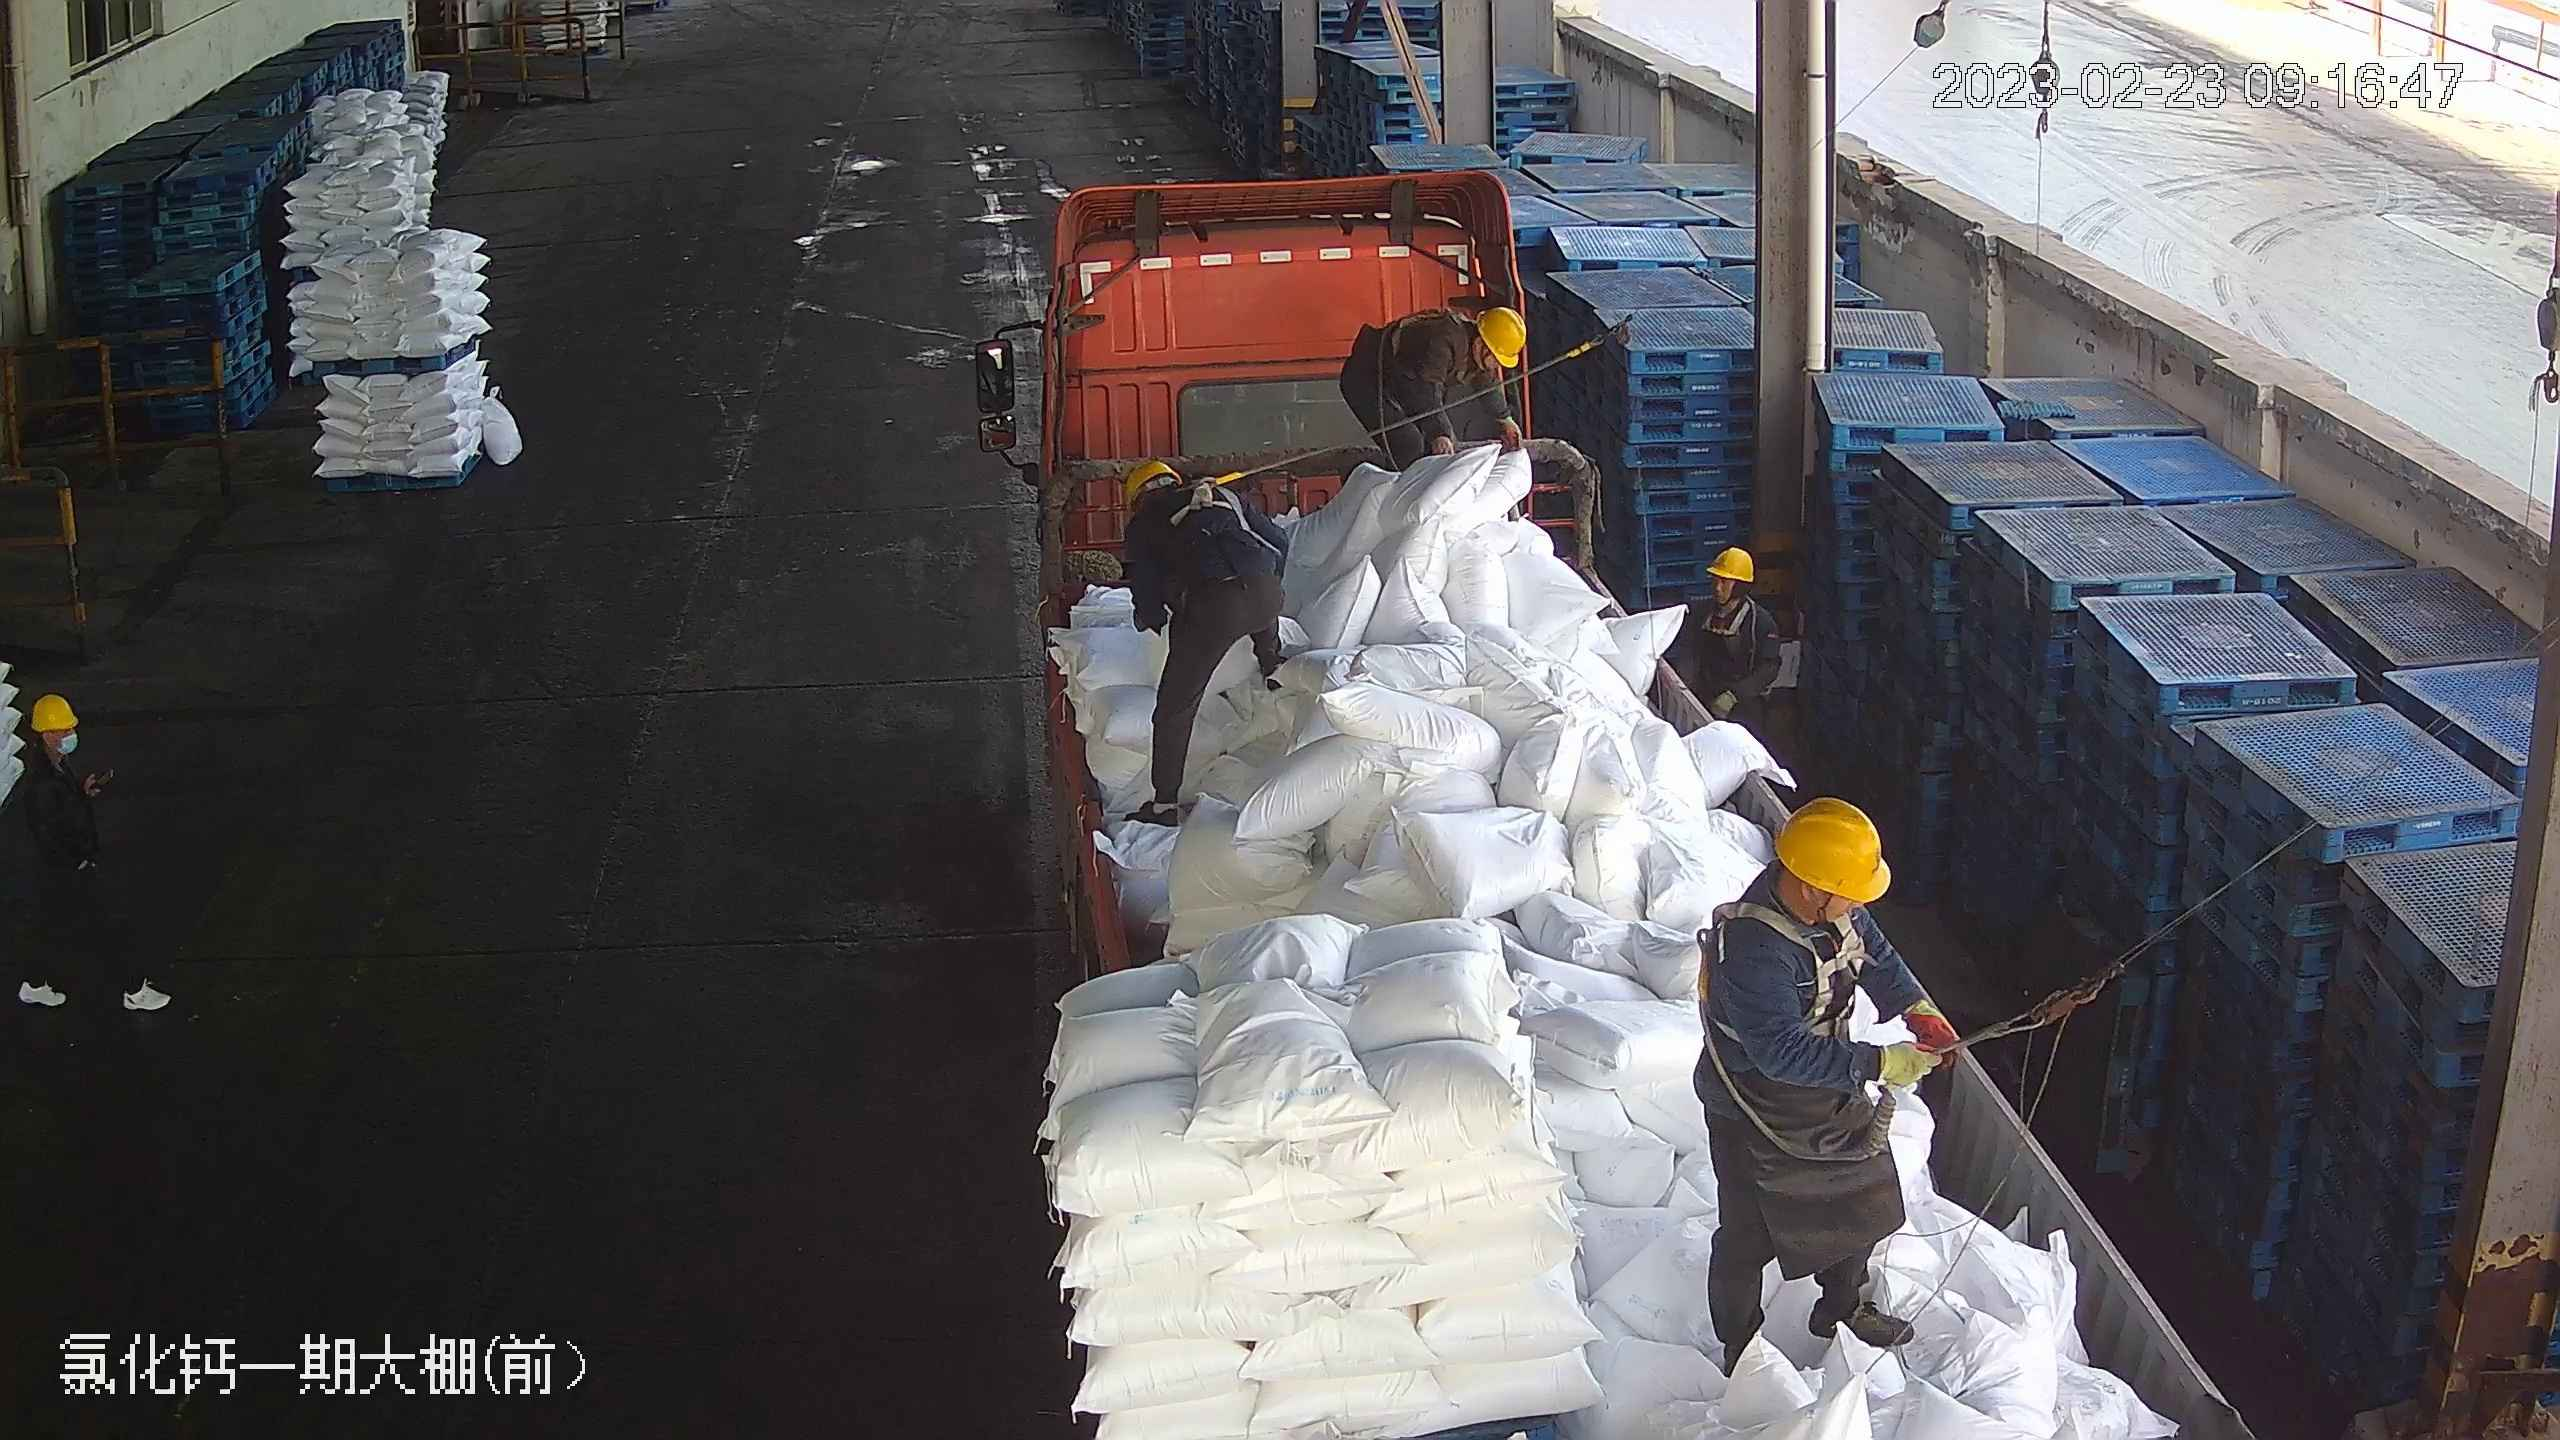belt: (1749, 924, 1872, 1052), (1161, 464, 1248, 532), (1384, 296, 1472, 360), (1696, 591, 1759, 639)
head: (1718, 799, 1898, 989), (12, 692, 105, 801), (1116, 458, 1233, 535), (1686, 542, 1775, 640), (1423, 303, 1531, 384)
helmet: (1769, 791, 1897, 899), (1473, 304, 1532, 366), (1112, 459, 1171, 509), (1706, 541, 1760, 582), (26, 691, 80, 732), (1708, 550, 1753, 593)
people: (1697, 789, 1953, 1383), (1107, 453, 1295, 833), (4, 687, 156, 1025), (1337, 302, 1534, 496)
truck: (987, 155, 2242, 1435)
